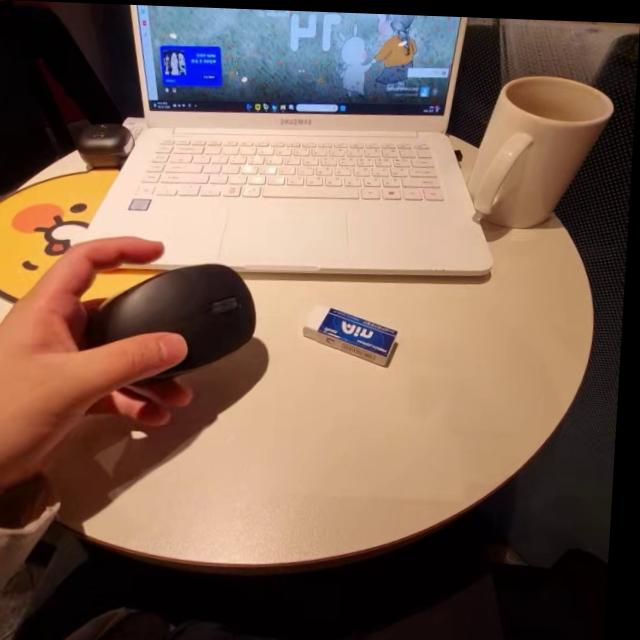eraser: (303, 299, 408, 375)
grab_mouse: (0, 227, 282, 480)
